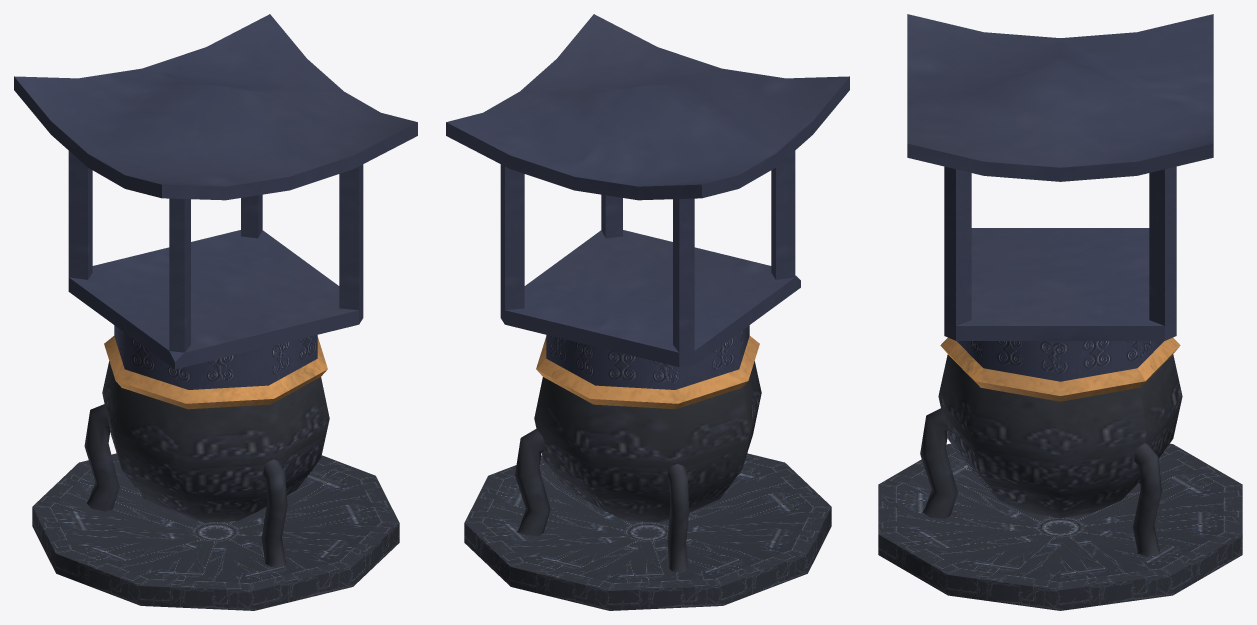
Rendered from OutterLamp.glb.
The picture shows the model from 3 angles, left to right: view 1: azimuth 30°, elevation 25°; view 2: azimuth 150°, elevation 25°; view 3: azimuth 270°, elevation 25°; orthographic projection. The views are drawn at different scales.
Visible parts, largest first — view 1: OutterLamp; view 2: OutterLamp; view 3: OutterLamp.
Part boxes in pixels (x1,y1,x2,y2): OutterLamp: (14,14,417,610); OutterLamp: (446,14,849,610); OutterLamp: (878,14,1242,610).
Size of the model in its own units: 1.75 by 2.34 by 1.66.
2 materials, 2 textured.
